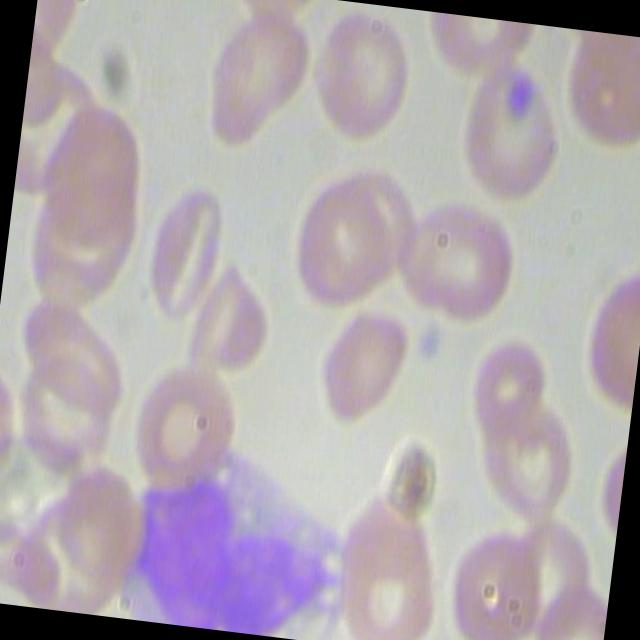RBC: (380, 178, 542, 340), (447, 52, 572, 214), (190, 0, 316, 157), (124, 361, 255, 510), (301, 2, 423, 154), (286, 163, 410, 310), (330, 494, 444, 640), (303, 294, 423, 430), (133, 177, 234, 322), (441, 517, 555, 640), (466, 328, 554, 438)
WBC: (113, 423, 360, 640)
